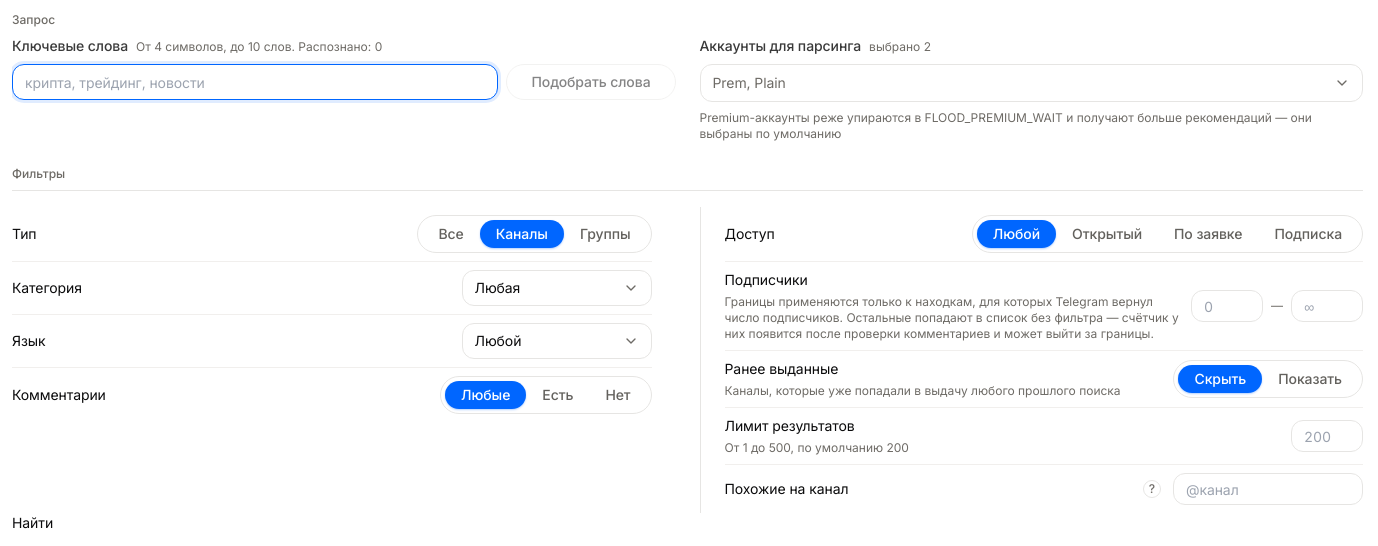
Test: DiscoveryForm › reports how many keywords were parsed
The width and height of the screenshot is (1378, 546).
Step 1. Type "crypto, trading, ab" into the field with placeholder "крипта, трейдинг, новости" → (255, 82), box [12, 64, 498, 100]
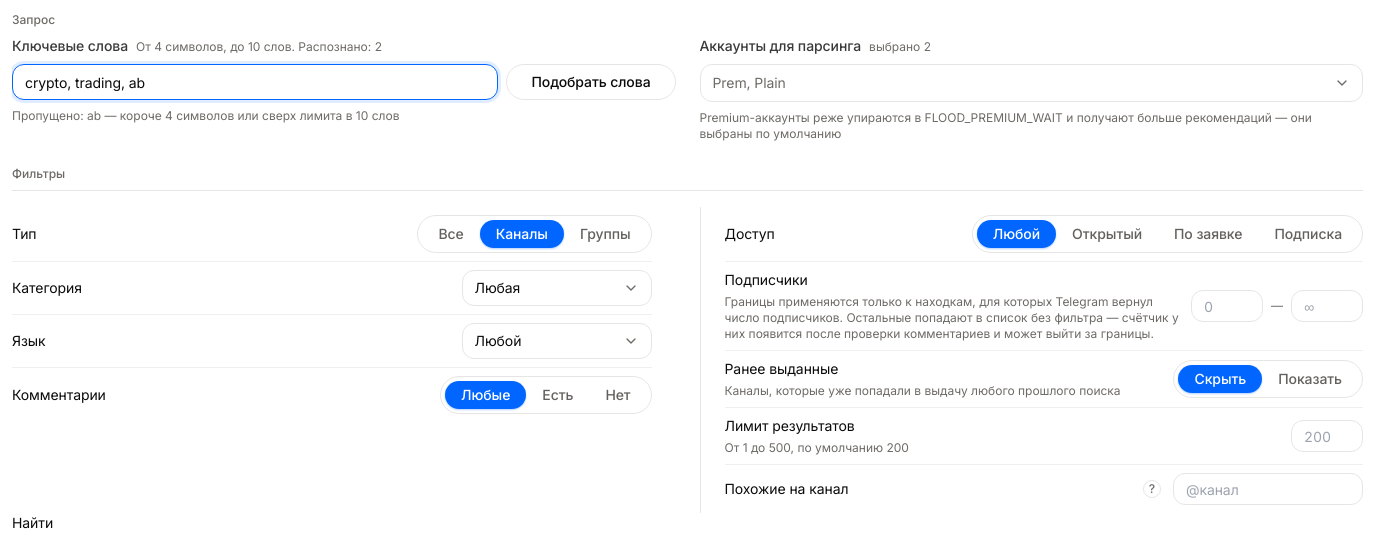
Result: the text "От 4 символов, до 10 слов. Распознано: 2" is shown at [136, 39, 382, 55]
